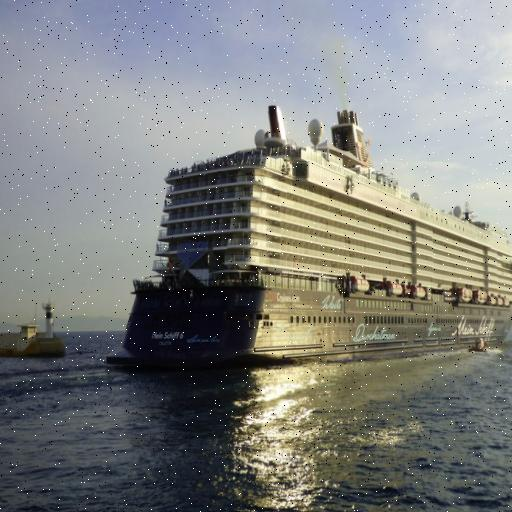cruises: (117, 79, 512, 372)
